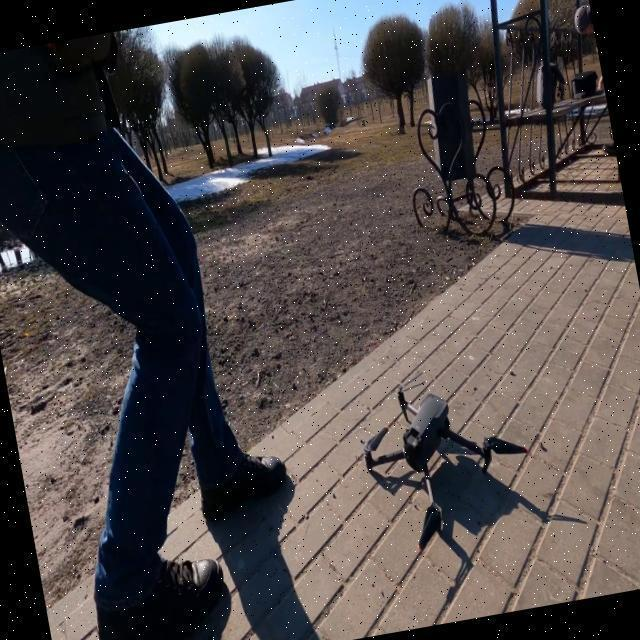Drons: (346, 350, 546, 560)
